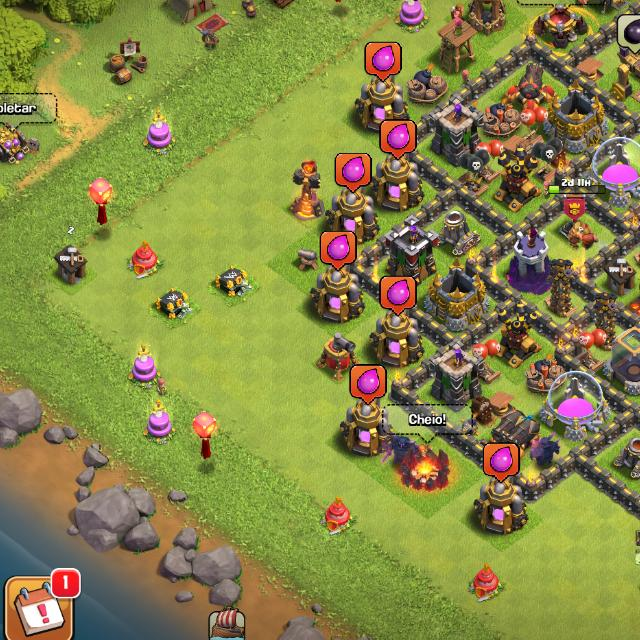ElixirNegro: (616, 14, 640, 55)
FullElixir: (318, 230, 358, 272), (349, 362, 387, 406), (333, 152, 372, 194), (482, 442, 521, 483), (379, 275, 417, 317), (379, 120, 417, 160), (365, 41, 401, 83)
